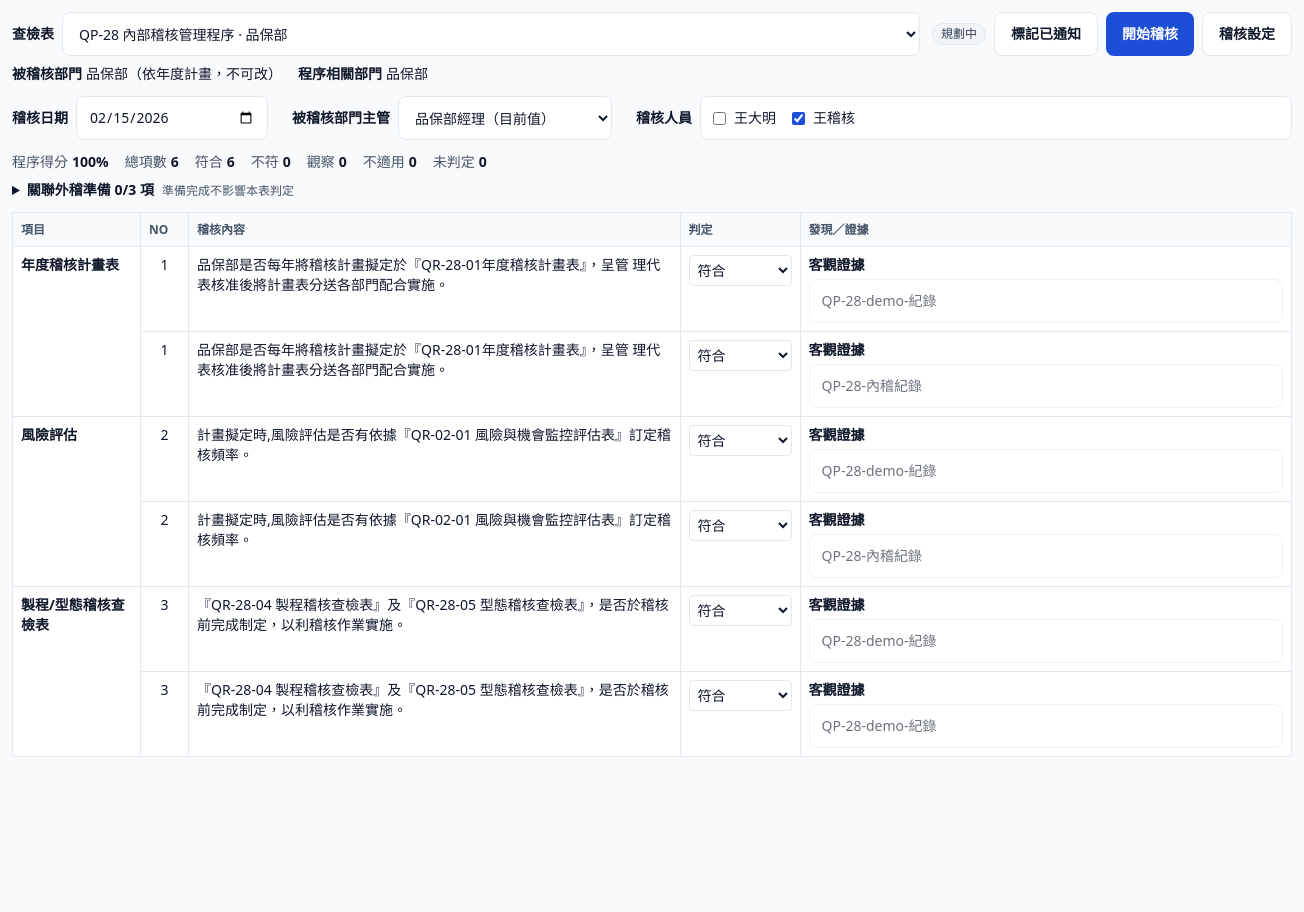
Test: ProcedureAuditPanel › marks notification from the audit toolbar even when setup is collapsed
Click the button " 稽核設定".
click(1247, 34)  # box x1=1202 y1=12 x2=1292 y2=56
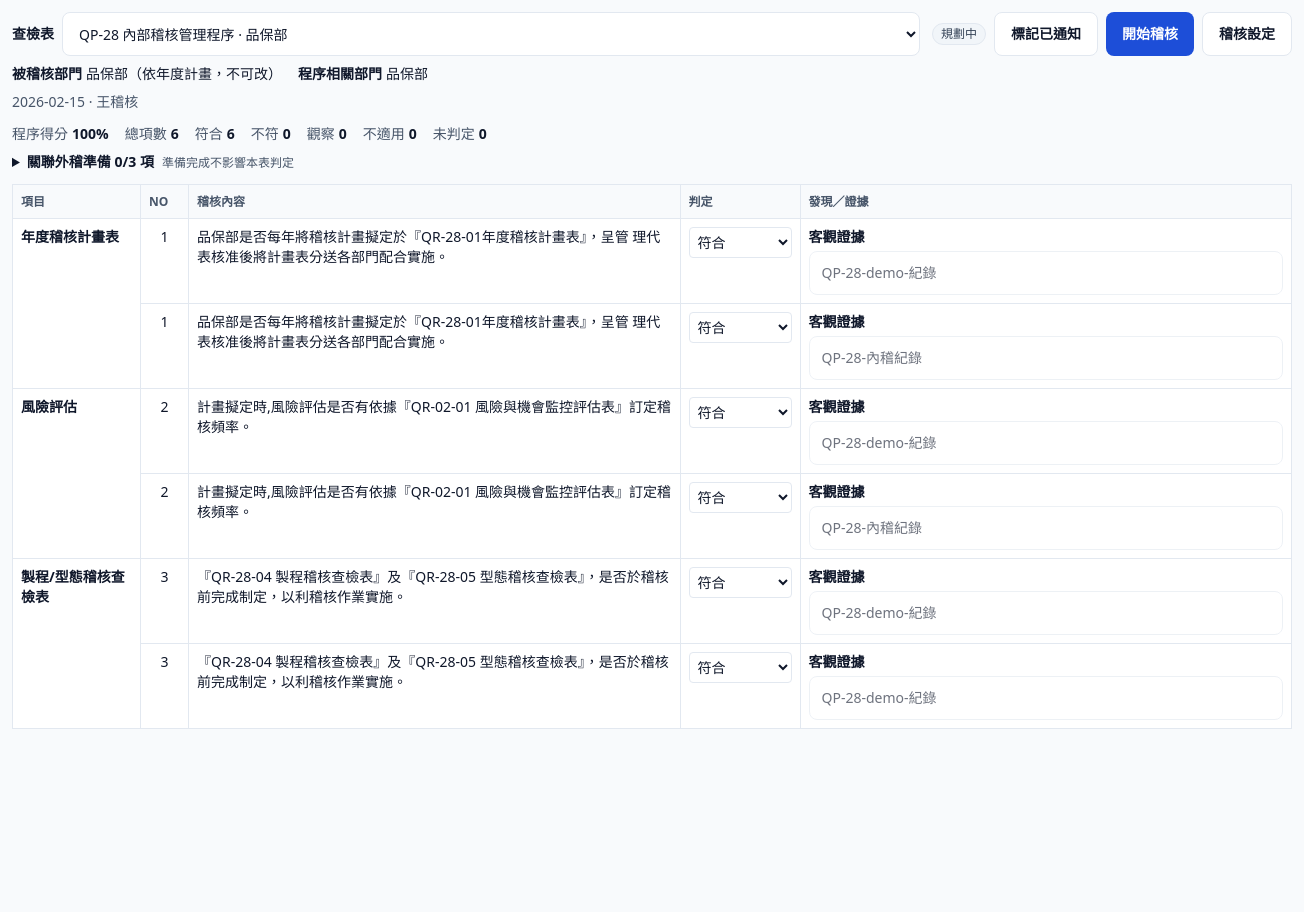
Expected: the text "2026-02-15 · 王稽核" is shown, x1=12 y1=92 x2=138 y2=112
Click the button "標記已通知".
click(1046, 34)  # box x1=994 y1=12 x2=1098 y2=56
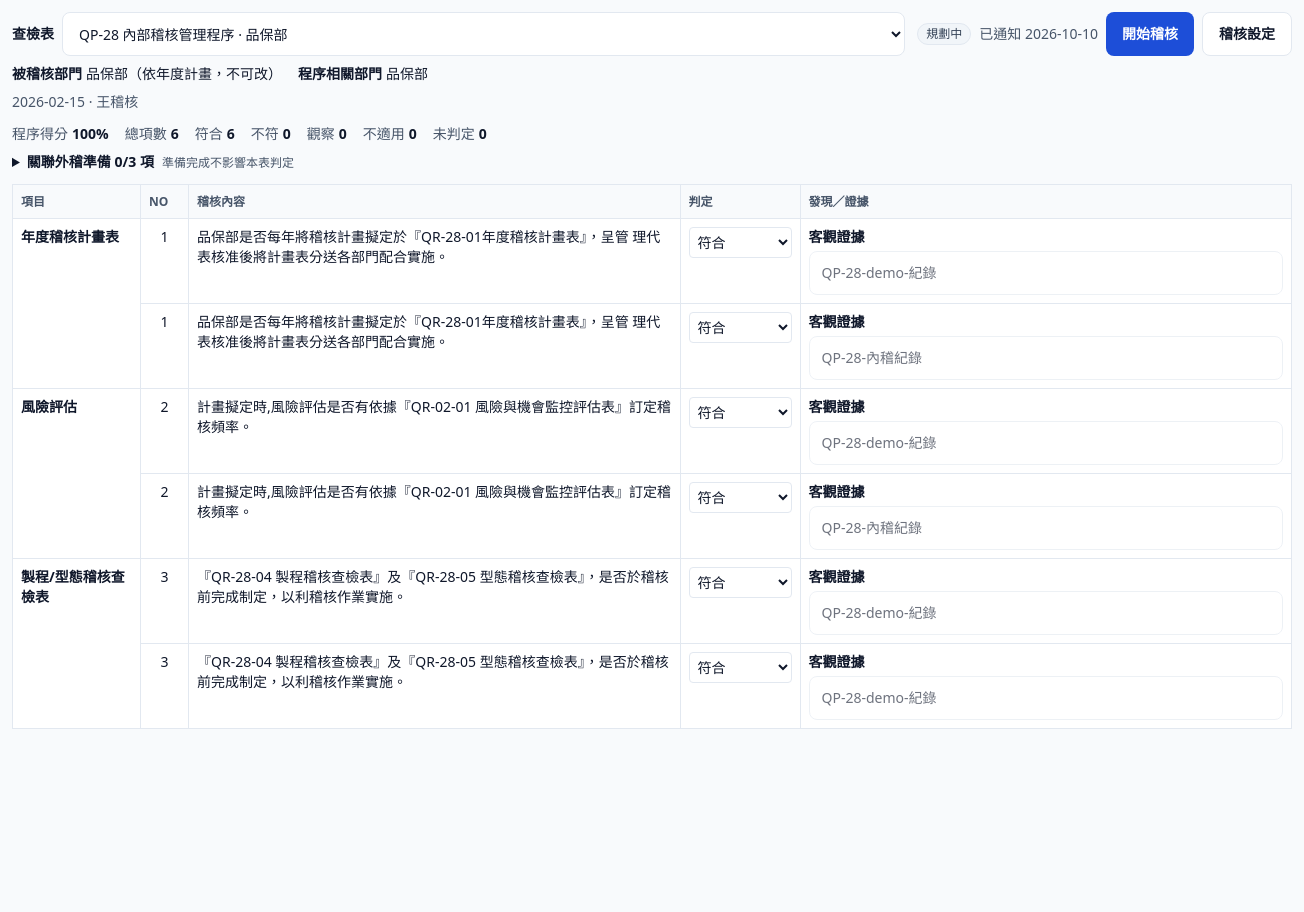
Expected: the button "標記已通知" is gone
Expected: the text "已通知 2026-10-10" is shown, x1=979 y1=24 x2=1098 y2=44
